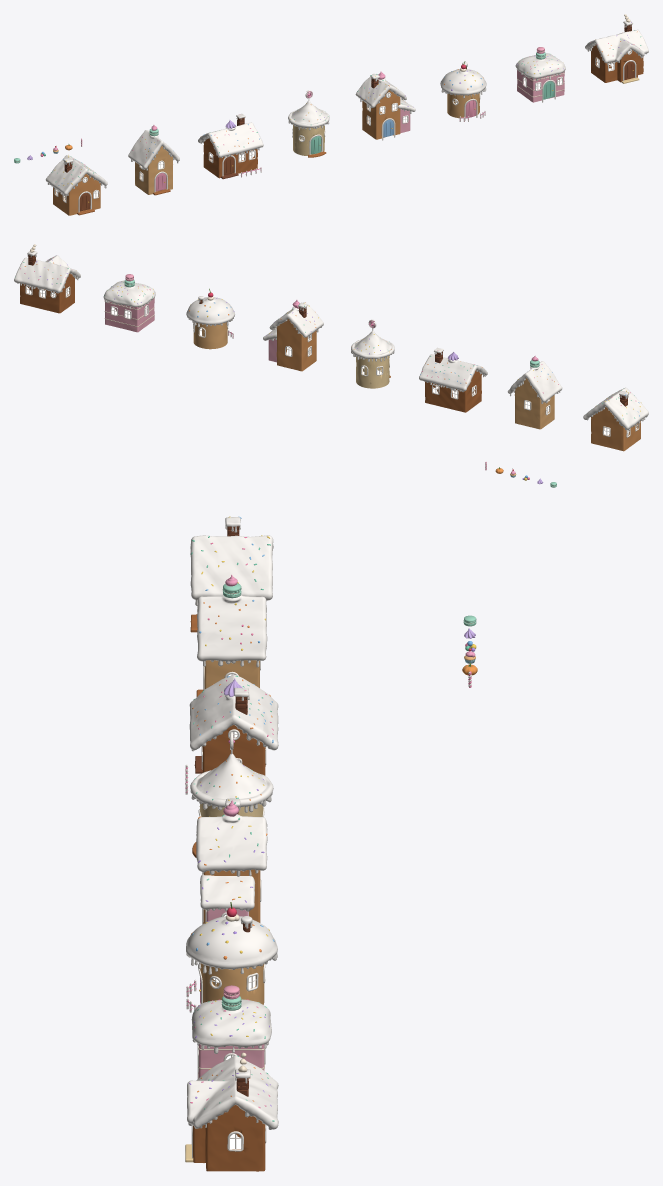
File: CandyHouses.fbx
3 renders of one model, top to bottom at view 1: azimuth 30°, elevation 25°; view 2: azimuth 150°, elevation 25°; view 3: azimuth 270°, elevation 25°, orthographic. The views are drawn at different scales.
Visible parts, largest first — view 1: HS_Body_05, HS_Body_03, HS_Icing_03, HS_Body_01, HS_Body_08, HS_Body_02, HS_Icing_08, HS_Body_07, HS_Icing_01, HS_Icing_06, HS_Body_04, HS_Icing_05 (+4 smaller); view 2: HS_Body_05, HS_Icing_08, HS_Icing_03, HS_Body_03, HS_Body_01, HS_Body_02, HS_Body_08, HS_Body_07, HS_Icing_01, HS_Icing_06, HS_Body_04, HS_Icing_02 (+4 smaller); view 3: HS_Icing_05, HS_Icing_01, HS_Icing_02, HS_Body_08, HS_Icing_08, HS_Icing_03, HS_Icing_06, HS_Icing_07, HS_Icing_04, HS_Body_03, HS_Body_06, HS_Body_07 (+2 smaller).
Boxes of the visible parts, box(x1,y1,x2,y2) form: HS_Body_05: box(357, 71, 413, 140); HS_Body_03: box(203, 114, 261, 179); HS_Icing_03: box(198, 113, 263, 158); HS_Body_01: box(51, 155, 100, 215); HS_Body_08: box(590, 14, 643, 83); HS_Body_02: box(132, 125, 173, 195); HS_Icing_08: box(585, 20, 648, 65); HS_Body_07: box(517, 47, 564, 102); HS_Icing_01: box(45, 155, 107, 195); HS_Icing_06: box(440, 62, 486, 98); HS_Body_04: box(290, 90, 328, 157); HS_Icing_05: box(355, 73, 415, 113); HS_Body_05: box(266, 300, 318, 371); HS_Icing_08: box(14, 251, 80, 293); HS_Icing_03: box(419, 347, 487, 391); HS_Body_03: box(420, 350, 482, 412); HS_Body_01: box(591, 390, 641, 451); HS_Body_02: box(514, 355, 558, 429); HS_Body_08: box(15, 244, 76, 313); HS_Body_07: box(104, 274, 154, 332); HS_Icing_01: box(583, 387, 648, 430); HS_Icing_06: box(186, 296, 234, 327); HS_Body_04: box(354, 319, 391, 388); HS_Icing_02: box(507, 361, 562, 403); HS_Icing_05: box(196, 798, 267, 911); HS_Icing_01: box(190, 517, 273, 605); HS_Icing_02: box(197, 595, 267, 667); HS_Body_08: box(185, 1052, 274, 1171); HS_Icing_08: box(187, 1055, 278, 1129); HS_Icing_03: box(189, 674, 278, 751); HS_Icing_06: box(186, 916, 277, 974); HS_Icing_07: box(191, 999, 271, 1053); HS_Icing_04: box(190, 754, 273, 812); HS_Body_03: box(185, 675, 273, 794); HS_Body_06: box(186, 902, 274, 1012); HS_Body_07: box(193, 985, 269, 1078).
Bounding box in the file's own units: 22.73 × 2.39 × 4.91.
